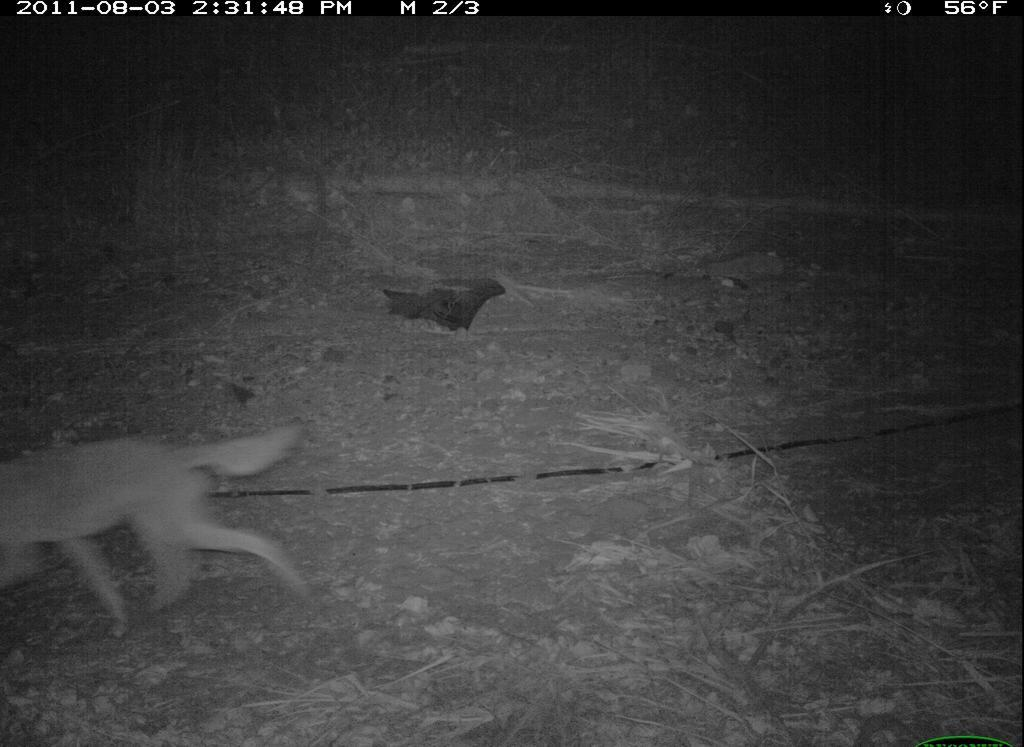coyote: (1, 413, 319, 655)
